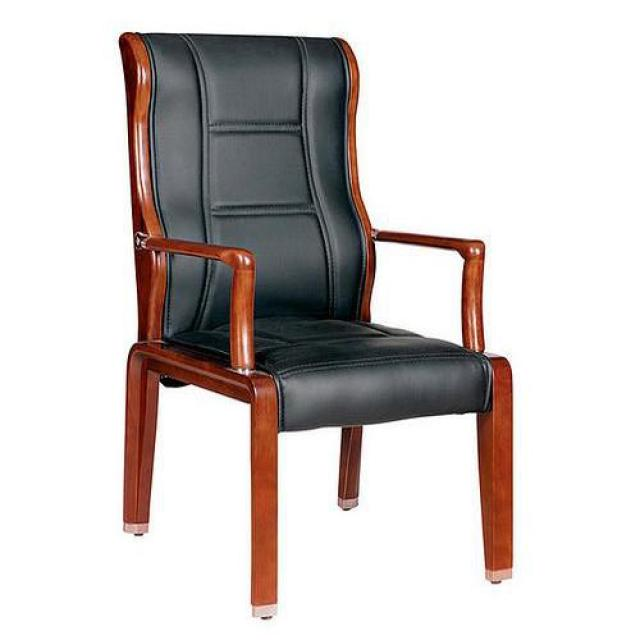chair: (118, 33, 515, 622)
